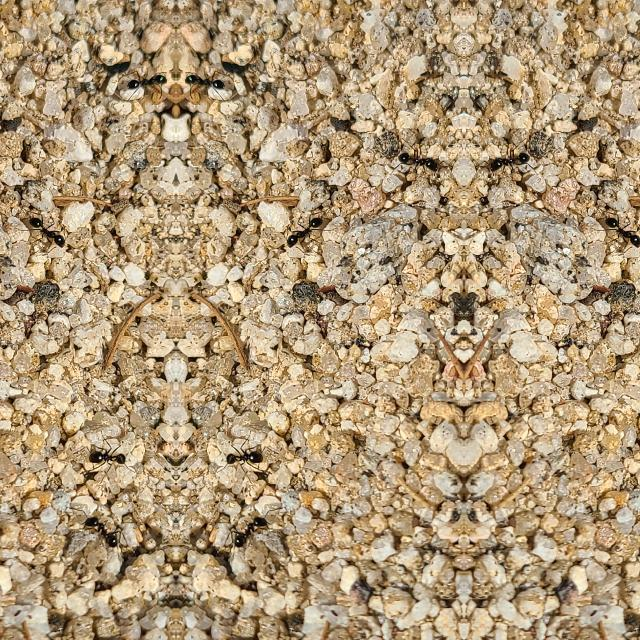Messor: (277, 206, 341, 254), (9, 206, 73, 254), (225, 509, 283, 556), (67, 509, 125, 556), (585, 206, 640, 253), (390, 146, 444, 177), (482, 146, 536, 177), (221, 435, 261, 475), (89, 435, 129, 475), (122, 64, 166, 96), (185, 64, 228, 96)
